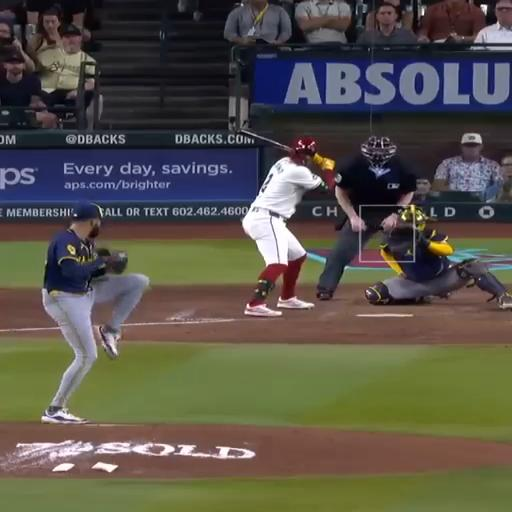bat: (238, 129, 290, 151)
